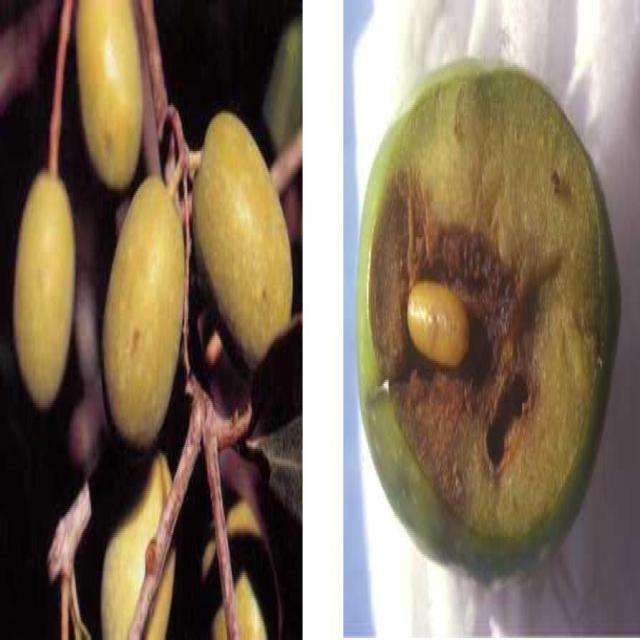Olive Fruit Fly: (357, 59, 618, 577), (193, 111, 292, 363), (103, 176, 184, 443)
